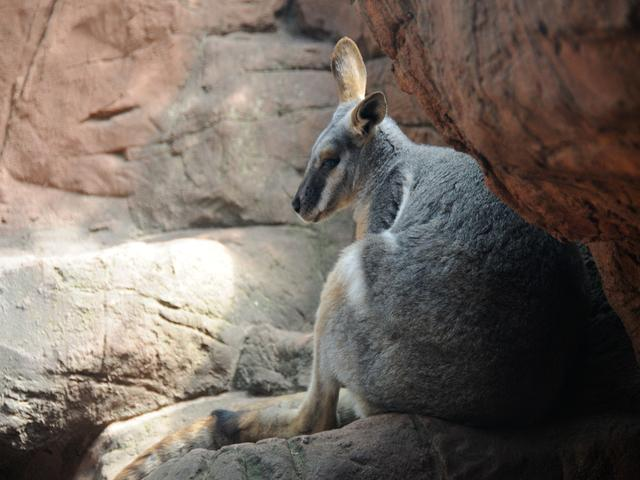kangaroo: (207, 27, 611, 448)
